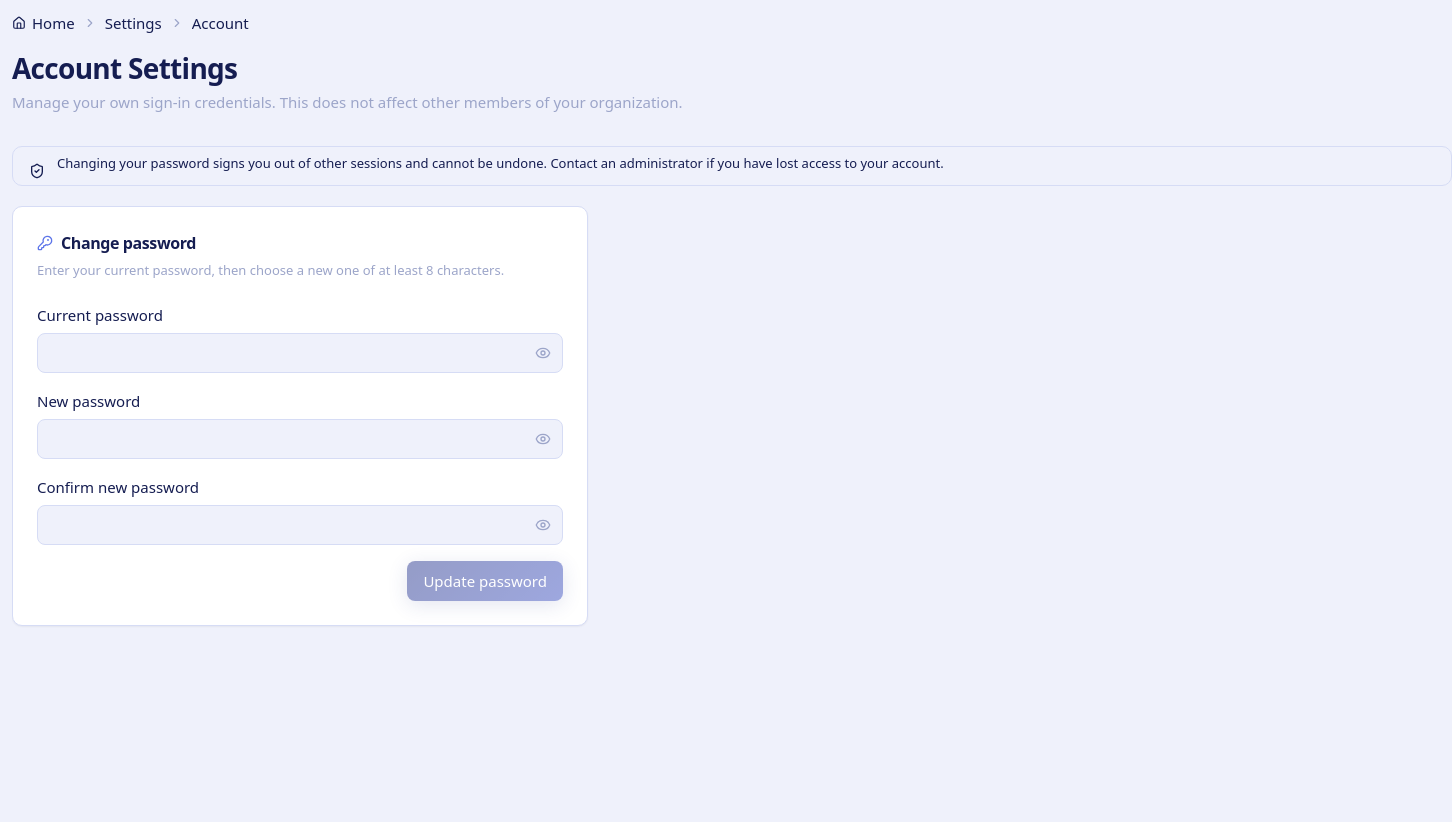
Scenario: AccountSettings › flags an incorrect current password on a 400 response
Step 1. Type "wrongpass" into the password field labelled "Current password" → coordinates (300, 353), box [37,333,563,373]
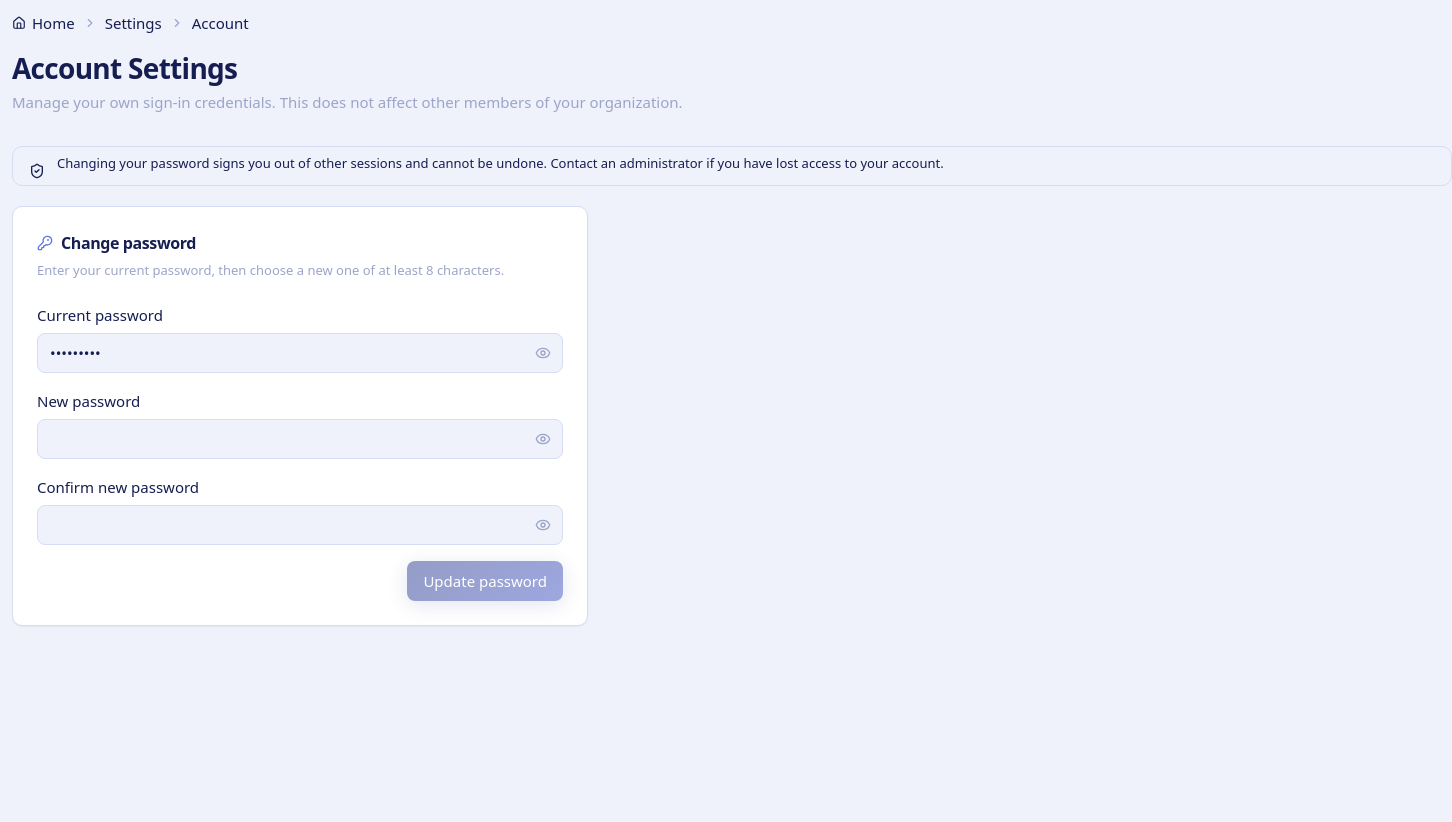
Step 2. Type "NewPass@123" into the password field labelled "New password" → coordinates (300, 439), box [37,419,563,459]
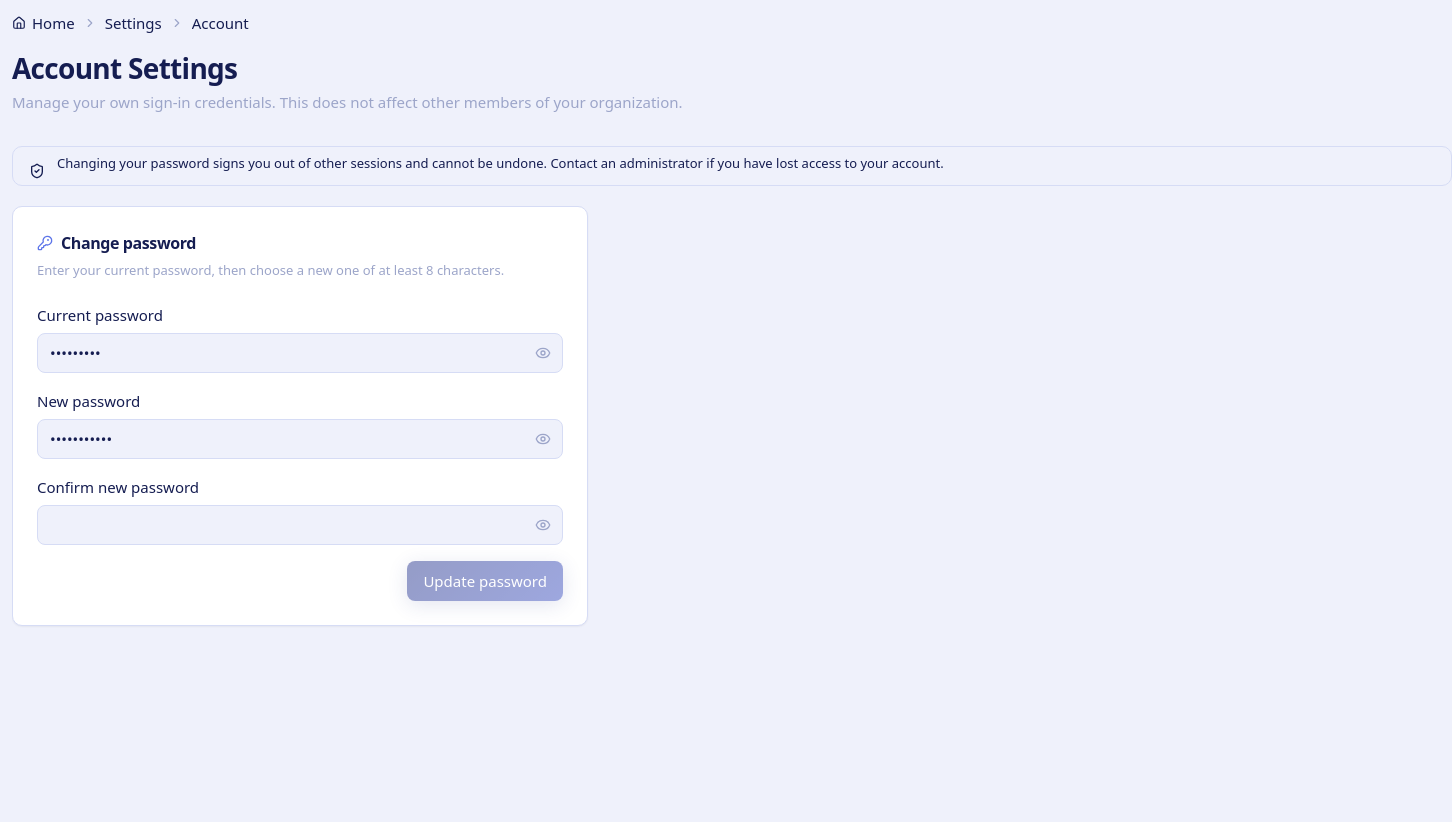
Step 3. Type "NewPass@123" into the password field labelled "Confirm new password" → coordinates (300, 525), box [37,505,563,545]
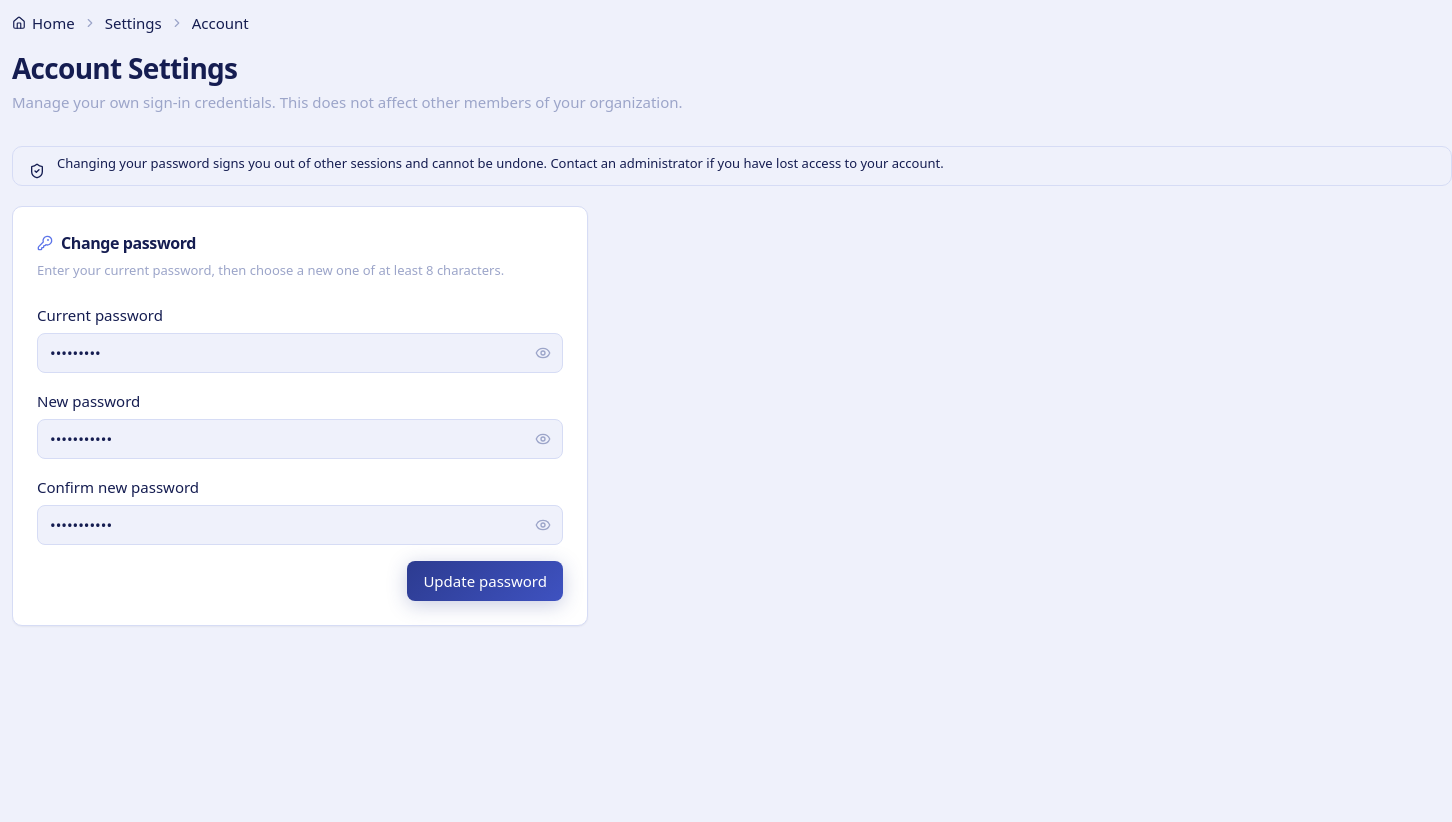
Step 4. Click the button "Update password" → coordinates (485, 581), box [407,561,563,601]
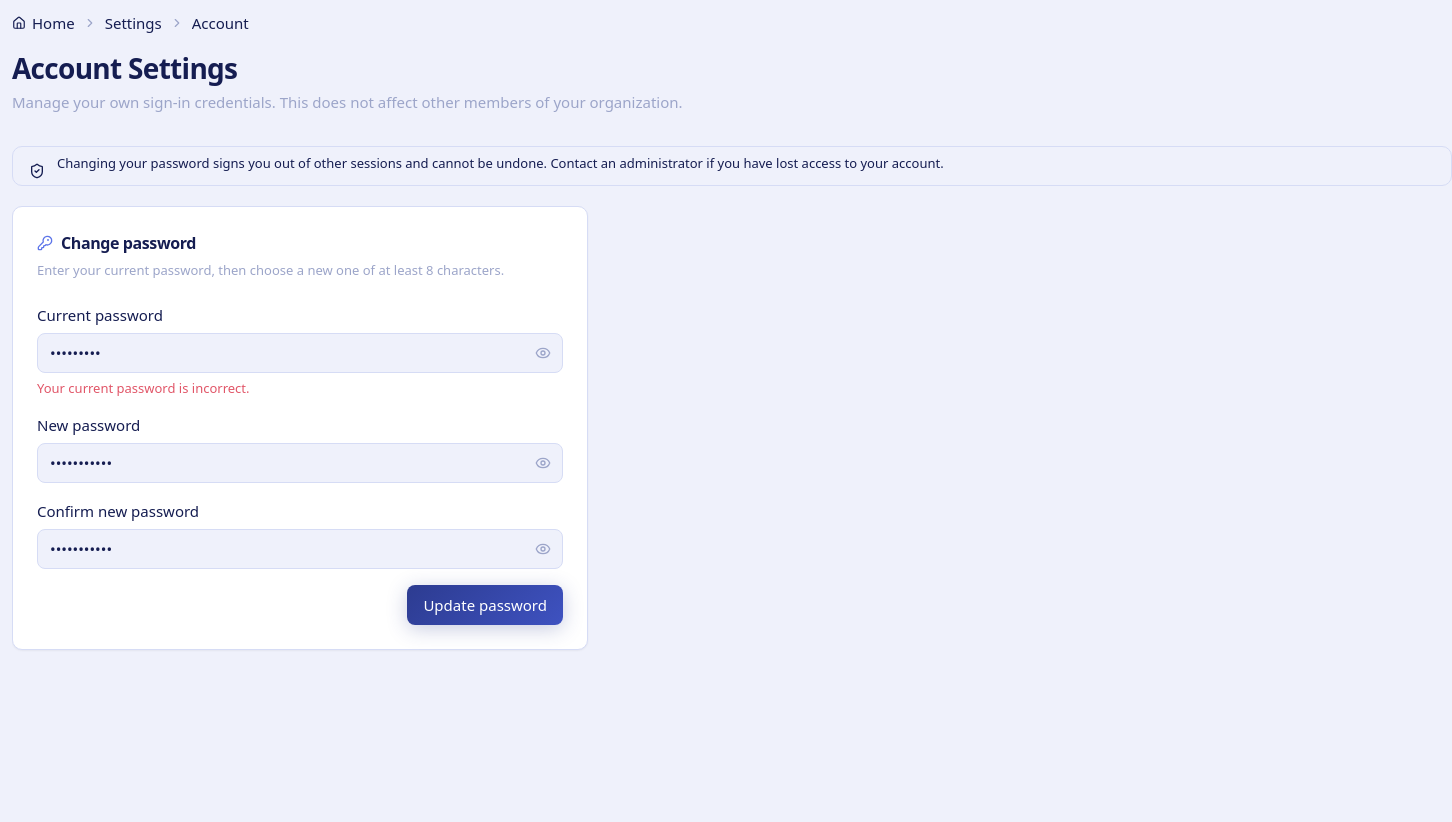
Expected: the text "Your current password is incorrect." is shown, [37,379,250,397]
